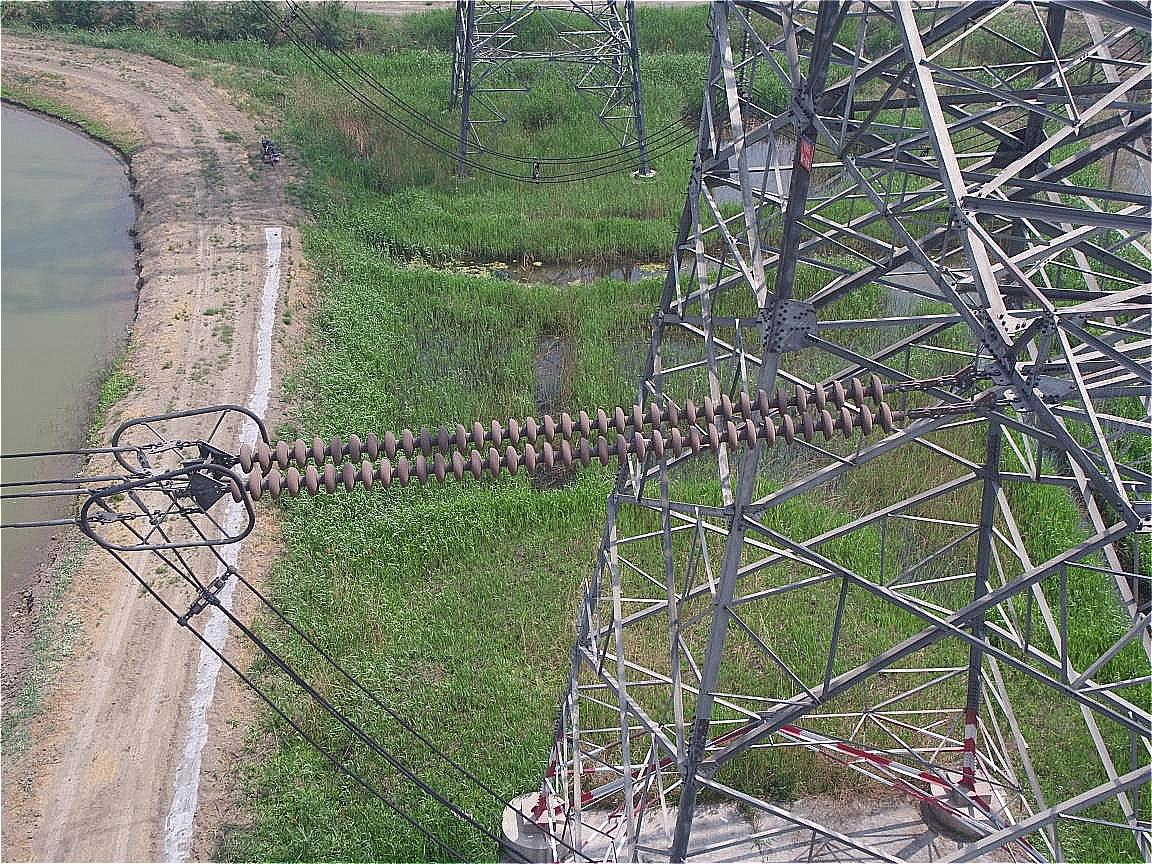insultor1: (217, 365, 932, 494)
